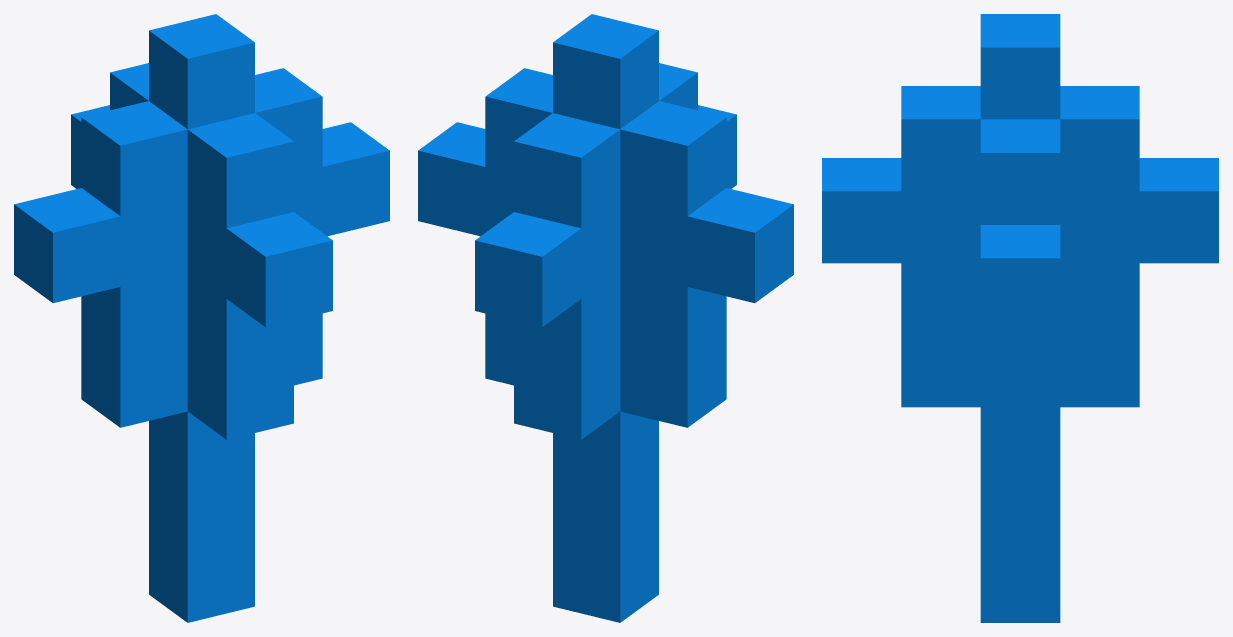
Rendered from VoxelEffects_LaserBullet_01.FBX.
3 views of the same model, side by side, from view 1: azimuth 30°, elevation 25°; view 2: azimuth 150°, elevation 25°; view 3: azimuth 270°, elevation 25° (orthographic). The views are drawn at different scales.
Parts seen in each view (by area): view 1: VoxelEffects_LaserBullet_01; view 2: VoxelEffects_LaserBullet_01; view 3: VoxelEffects_LaserBullet_01.
Part boxes in pixels (left/top/right/bottom): VoxelEffects_LaserBullet_01: left=14, top=14, right=389, bottom=622; VoxelEffects_LaserBullet_01: left=418, top=14, right=793, bottom=622; VoxelEffects_LaserBullet_01: left=822, top=14, right=1218, bottom=622.
Size of the model in its own units: 50 by 80 by 50.
